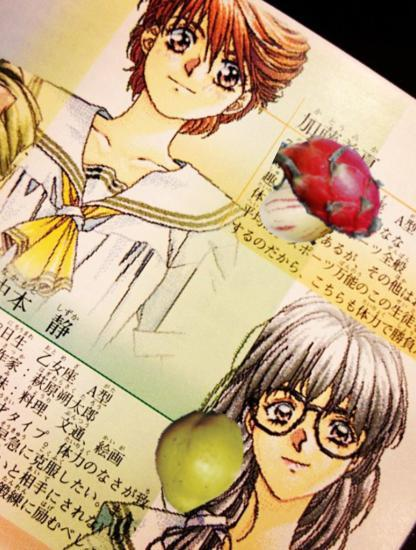Pepino: (261, 169, 347, 255)
Pitahaya: (270, 120, 396, 246)
Quince: (142, 408, 250, 516)
